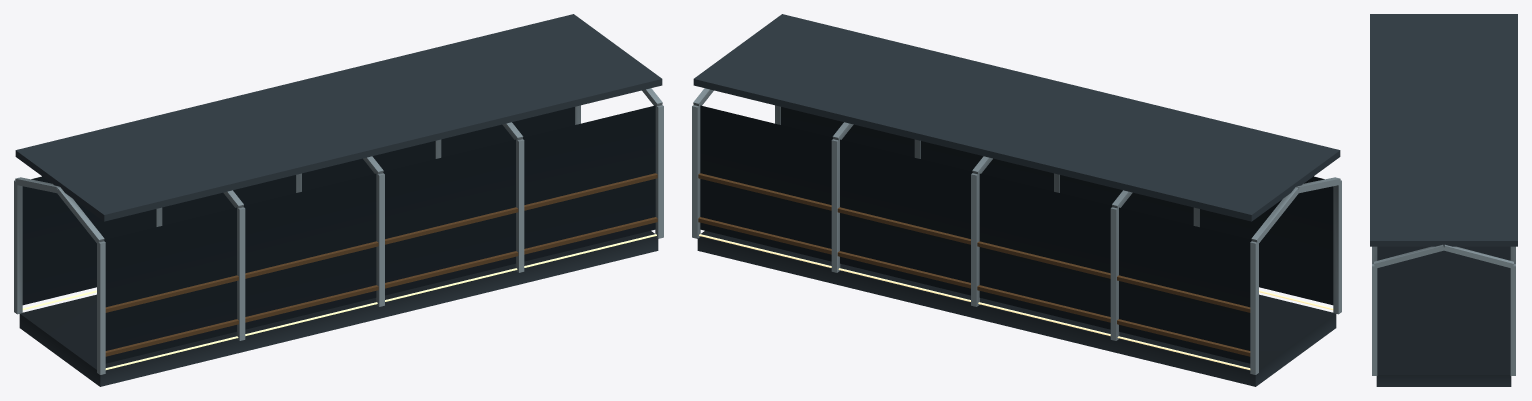
Rendered from skybridge.lod2.glb.
3 renders of one model, left to right at view 1: azimuth 30°, elevation 25°; view 2: azimuth 150°, elevation 25°; view 3: azimuth 270°, elevation 25°, orthographic. The views are drawn at different scales.
Parts seen in each view (by area): view 1: structure; view 2: structure; view 3: structure.
Boxes of the visible parts, x1,y1,x2,y2 form: structure: (14,14,663,386); structure: (692,14,1341,386); structure: (1370,14,1517,386).
Bounding box in the file's own units: 16.16 × 4.83 × 4.4.
